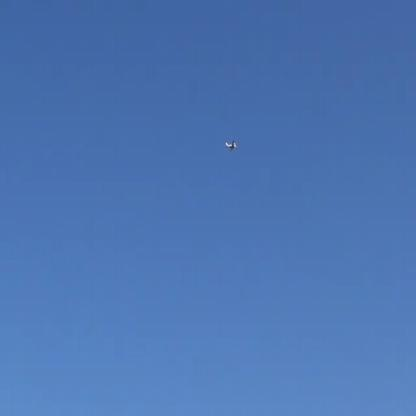CIV_Plane: (223, 141, 237, 151)
